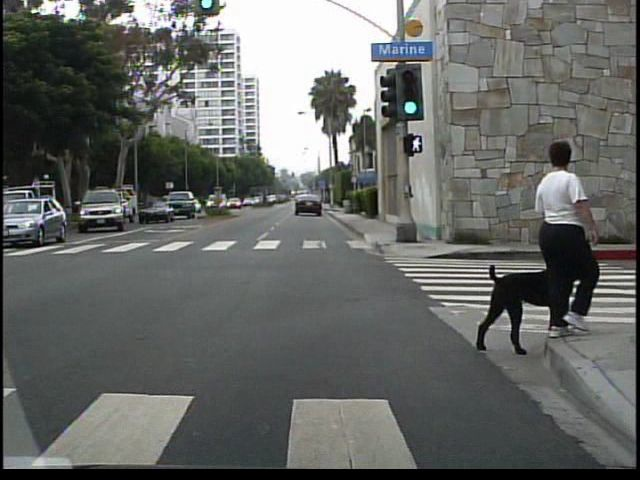person: (528, 141, 605, 339)
